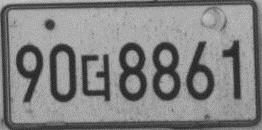0: (47, 42, 78, 104)
1: (219, 38, 252, 101)
6: (186, 40, 216, 101)
8: (151, 41, 182, 101), (116, 42, 147, 101)
9: (14, 43, 44, 103)
더: (79, 53, 113, 103)
